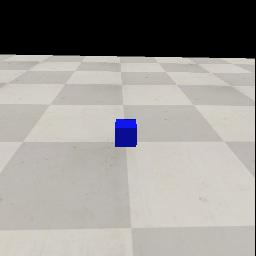box: (115, 119, 137, 147)
